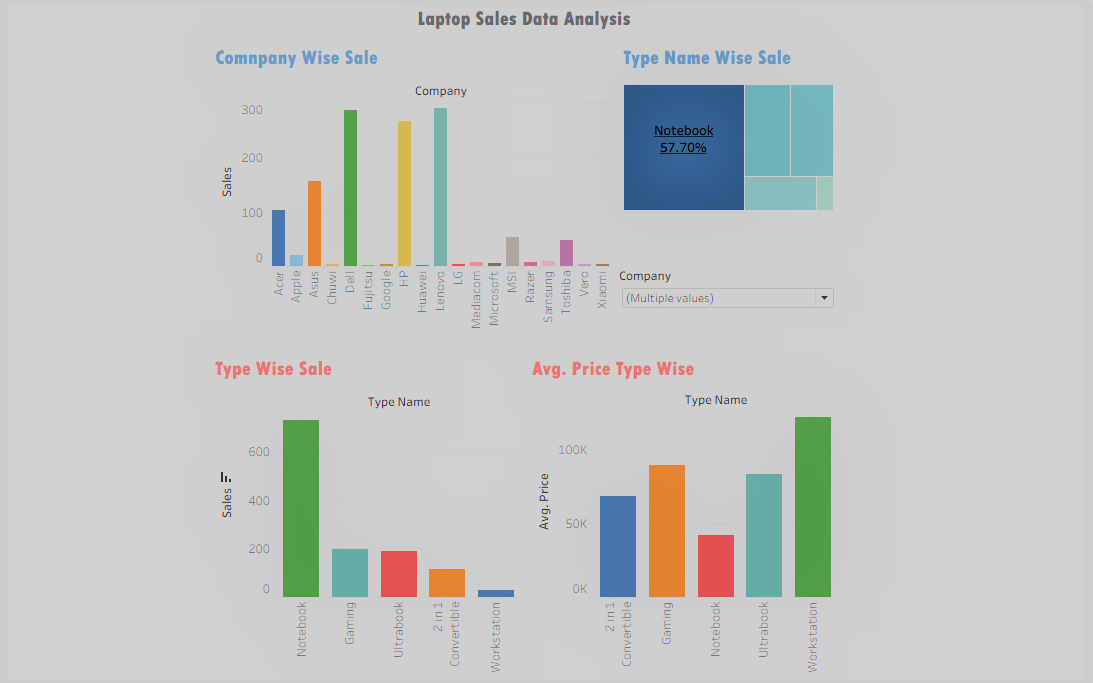

The dashboard page shown, as its layout file describes it:
{"tool":"tableau","page":{"name":"Dashboard 1","canvas":[650,860],"ordinal":0},"visuals":[{"type":"text","box":[8,12.3,634,49.1]},{"type":"worksheet","title":"Sheet 1","mark":"Automatic","rows":["Company"],"cols":["Company"],"box":[8,61.4,408,380.9]},{"type":"worksheet","title":"Sheet 2","mark":"Automatic","box":[416,61.4,226,331.7]},{"type":"filter","title":"Sheet 3","param":"[federated.1c2f9qy1gydhz212r2ssn1orq1wu].[none:Company:nk]","box":[416,393.1,226,49.1]},{"type":"worksheet","title":"Sheet 3","mark":"Automatic","rows":["TypeName"],"cols":["TypeName"],"box":[8,442.3,317,405.4]},{"type":"worksheet","title":"Sheet 4","mark":"Automatic","rows":["Price"],"cols":["TypeName"],"box":[325,442.3,317,405.4]}]}

Visuals, with their boxes on the page's 650x860 design canvas (x1, y1, x2, y2). These are canvas units, not pixel positions in the 1093x683 screenshot, which may show the page scaled, cropped or inside an application window:
text: [8,12,642,61]
"Sheet 1" worksheet: [8,61,416,442]
"Sheet 2" worksheet: [416,61,642,393]
"Sheet 3" filter: [416,393,642,442]
"Sheet 3" worksheet: [8,442,325,848]
"Sheet 4" worksheet: [325,442,642,848]
